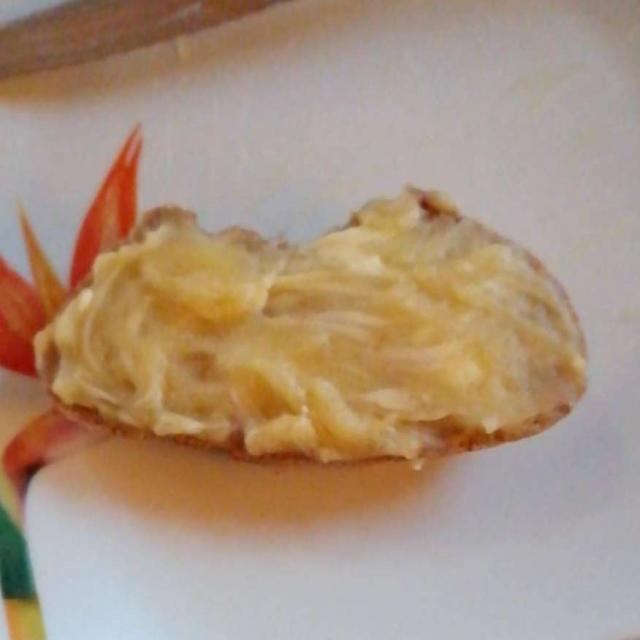bread: (32, 150, 583, 466)
honey: (44, 201, 583, 459), (30, 214, 571, 445)
